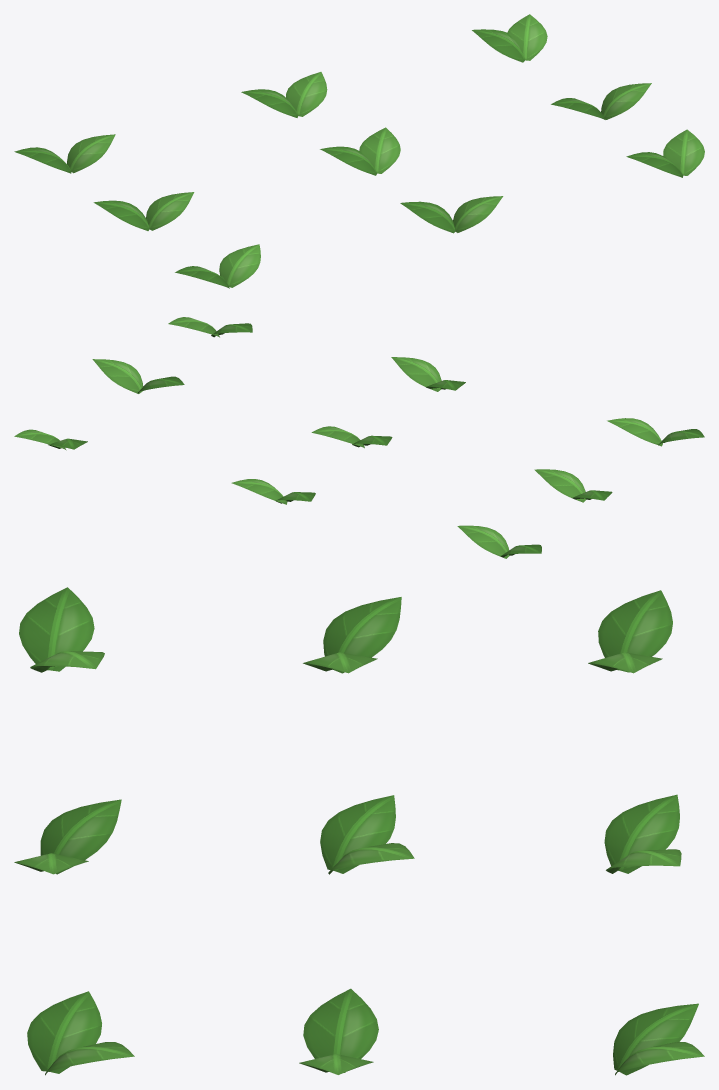
File: crop_sprout.glb
The picture shows the model from 3 angles, top to bottom: view 1: azimuth 30°, elevation 25°; view 2: azimuth 150°, elevation 25°; view 3: azimuth 270°, elevation 25°; orthographic projection. The views are drawn at different scales.
Visible parts, largest first — view 1: Crop_leaf; view 2: Crop_leaf; view 3: Crop_leaf.
Part boxes in pixels (bbox=[...]): Crop_leaf: bbox=[14, 14, 704, 288]; Crop_leaf: bbox=[14, 317, 704, 558]; Crop_leaf: bbox=[14, 587, 704, 1075].
Size of the model in its own units: 1.22 by 0.0475 by 0.7273.
1 material, 1 textured.
